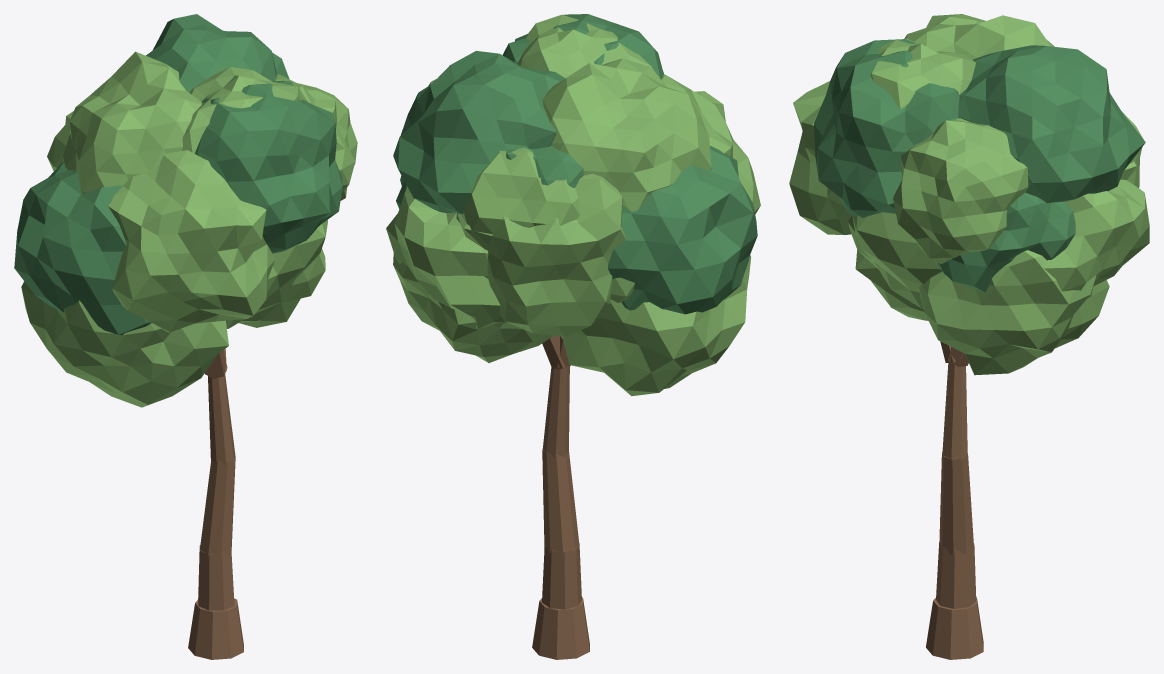
File: tree-round.glb
3 renders of one model, left to right at view 1: azimuth 30°, elevation 25°; view 2: azimuth 150°, elevation 25°; view 3: azimuth 270°, elevation 25°, orthographic. The views are drawn at different scales.
Visible parts, largest first — view 1: tree-round; view 2: tree-round; view 3: tree-round.
Boxes of the visible parts, <box> form: tree-round: <box>14,14,357,659</box>; tree-round: <box>386,14,760,659</box>; tree-round: <box>789,14,1149,659</box>.
Size of the model in its own units: 2.55 by 4.54 by 2.44.
